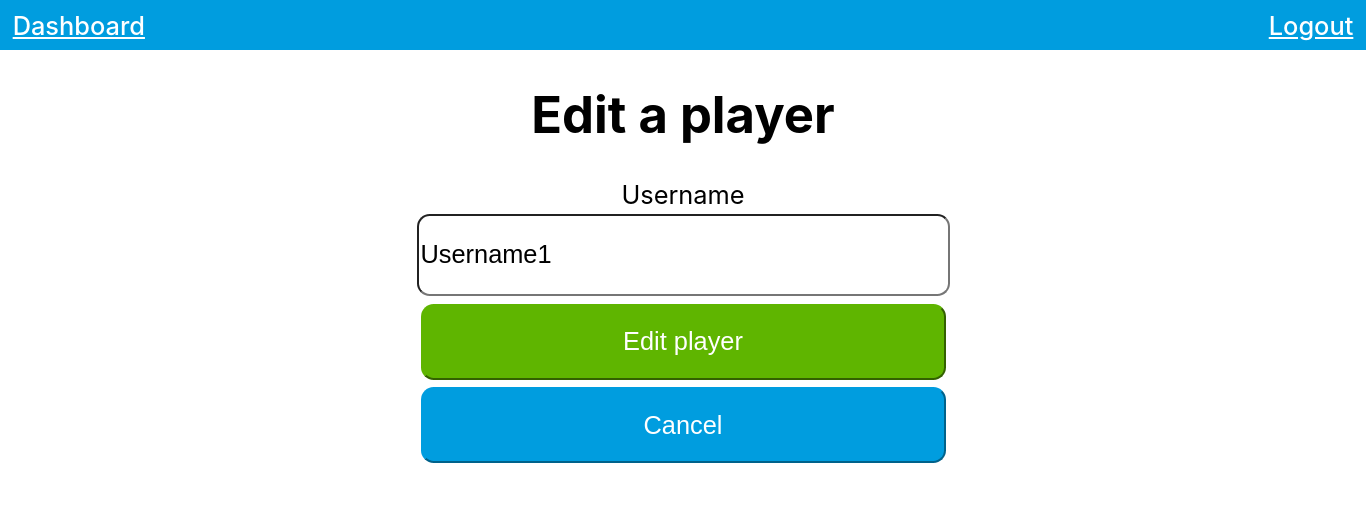
Scenario: shows error when username has not changed
The width and height of the screenshot is (1366, 517).
Expected: the heading "Edit a player" is shown, [333,84,1033,145]
What coordinates should you click on to do the following:
click the button "Edit player"
I would click on:
 (683, 342)
Its box is [420,304,946,380].
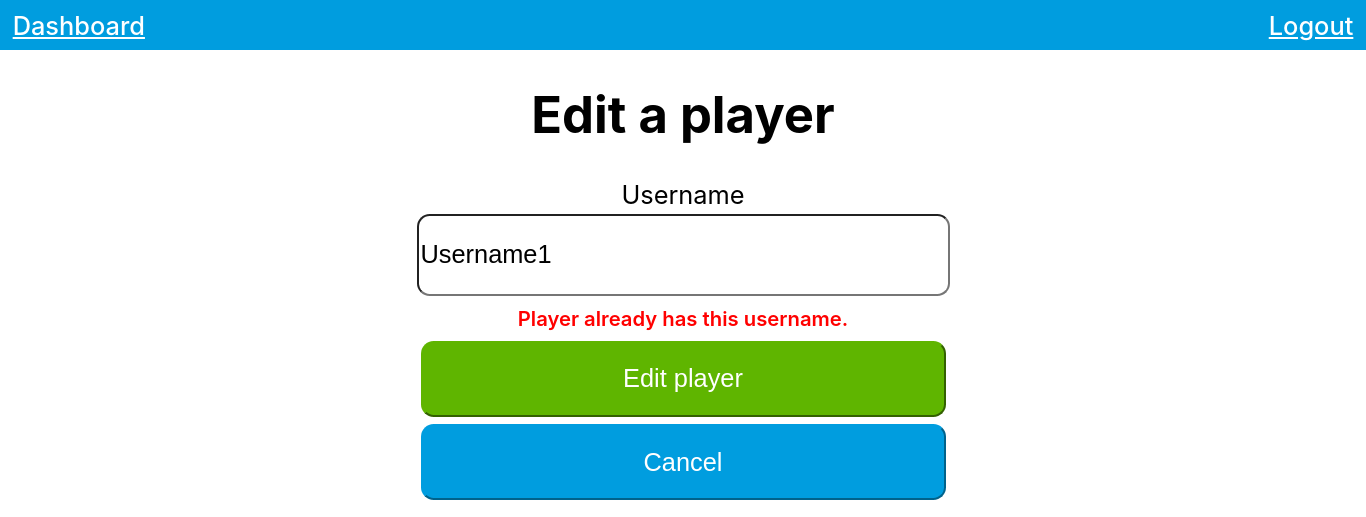
Result: the text "Player already has this username." is shown at [333,300,1033,337]
